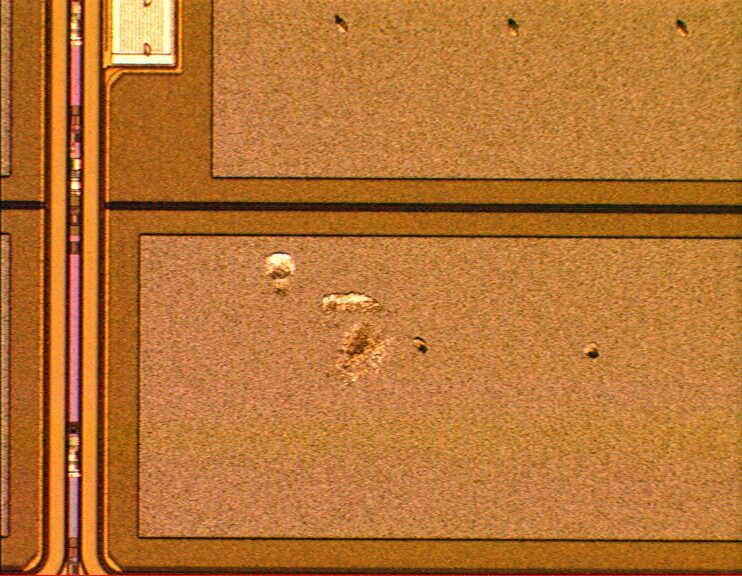SCRATCH: (246, 243, 413, 404)
